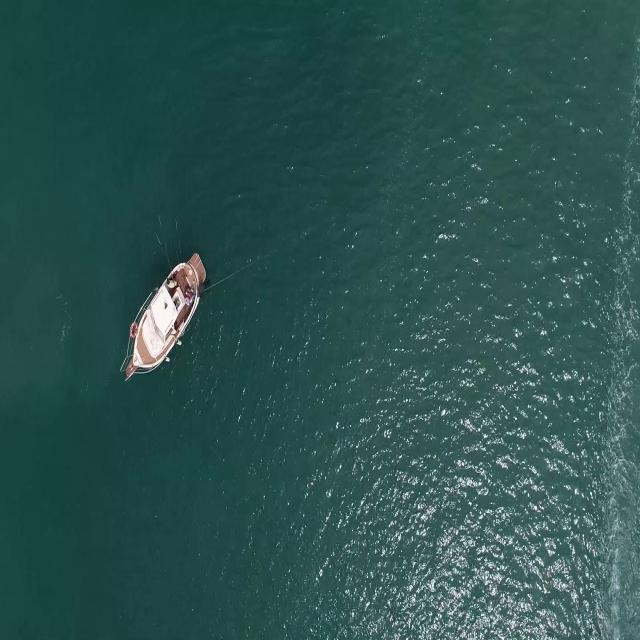boat: (121, 254, 207, 375)
life_buoy: (128, 318, 138, 341)
person: (164, 276, 181, 288), (184, 292, 195, 307)
